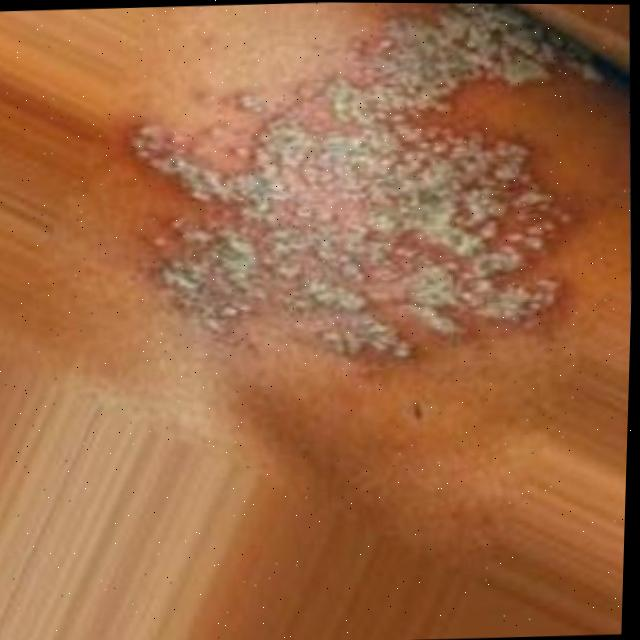Shingles: (124, 1, 609, 385)
